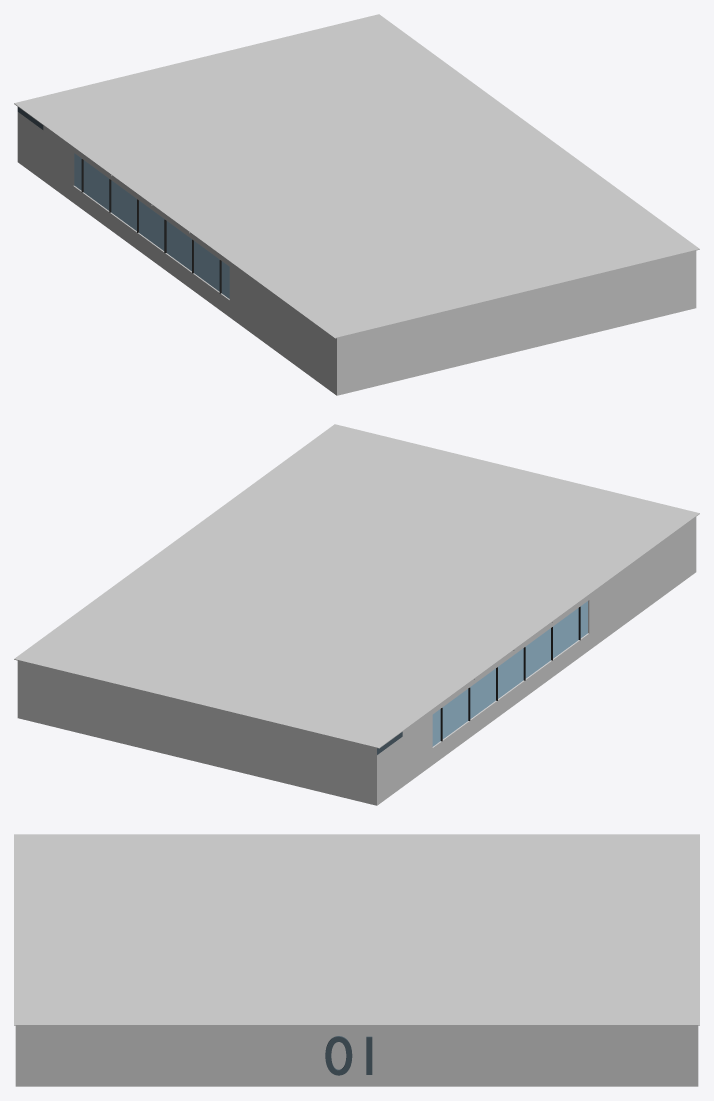
Rendered from LAB 2.0 (1).fbx.
3 renders of one model, top to bottom at view 1: azimuth 30°, elevation 25°; view 2: azimuth 150°, elevation 25°; view 3: azimuth 270°, elevation 25°, orthographic. The views are drawn at different scales.
Parts seen in each view (by area): view 1: teto, Cube, janela 2; view 2: teto, Cube, janela 2; view 3: teto, Cube, Text.002.
Boxes of the visible parts, left/top/right/bottom form: teto: left=14, top=14, right=699, bottom=338; Cube: left=17, top=107, right=696, bottom=395; janela 2: left=74, top=153, right=229, bottom=298; teto: left=14, top=424, right=699, bottom=748; Cube: left=17, top=517, right=696, bottom=805; janela 2: left=432, top=601, right=587, bottom=746; teto: left=14, top=834, right=699, bottom=1026; Cube: left=15, top=1025, right=698, bottom=1086; Text.002: left=325, top=1036, right=372, bottom=1075.
Size of the model in its own units: 5282 by 816 by 8039.
